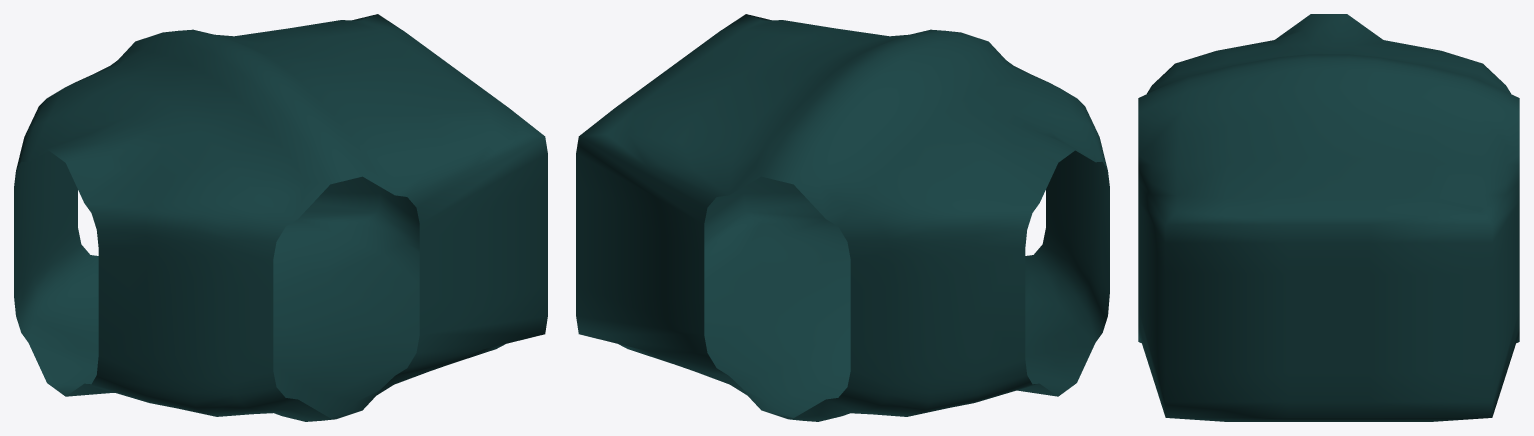
The model's file is OutsideResuplyRoomHigh.fbx.
3 views of the same model, side by side, from view 1: azimuth 30°, elevation 25°; view 2: azimuth 150°, elevation 25°; view 3: azimuth 270°, elevation 25° (orthographic). The views are drawn at different scales.
Visible parts, largest first — view 1: OutsideResuplyRoomHigh; view 2: OutsideResuplyRoomHigh; view 3: OutsideResuplyRoomHigh.
Part boxes in pixels (box(x1,y1,x2,y2)): OutsideResuplyRoomHigh: box(14, 14, 547, 421); OutsideResuplyRoomHigh: box(576, 14, 1109, 421); OutsideResuplyRoomHigh: box(1138, 14, 1519, 421).
Size of the model in its own units: 1689 by 1400 by 1309.
